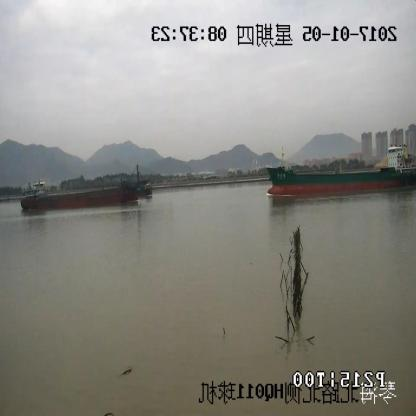Bulk Carrier: (267, 131, 415, 196), (22, 168, 150, 209)
